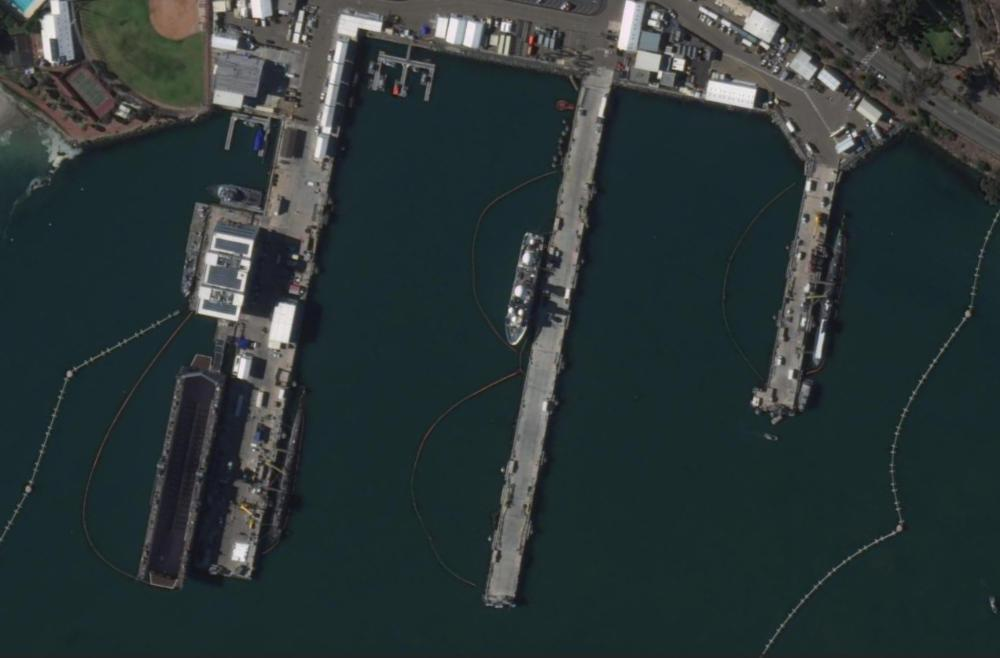submarine: (805, 216, 853, 384), (260, 388, 309, 547)
